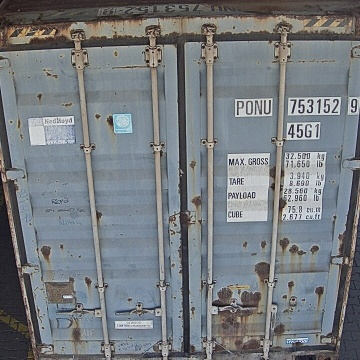serial_id: (235, 98, 359, 115)
